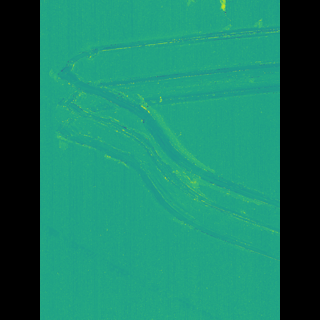Loch: (77, 20, 251, 262), (69, 217, 212, 320)
